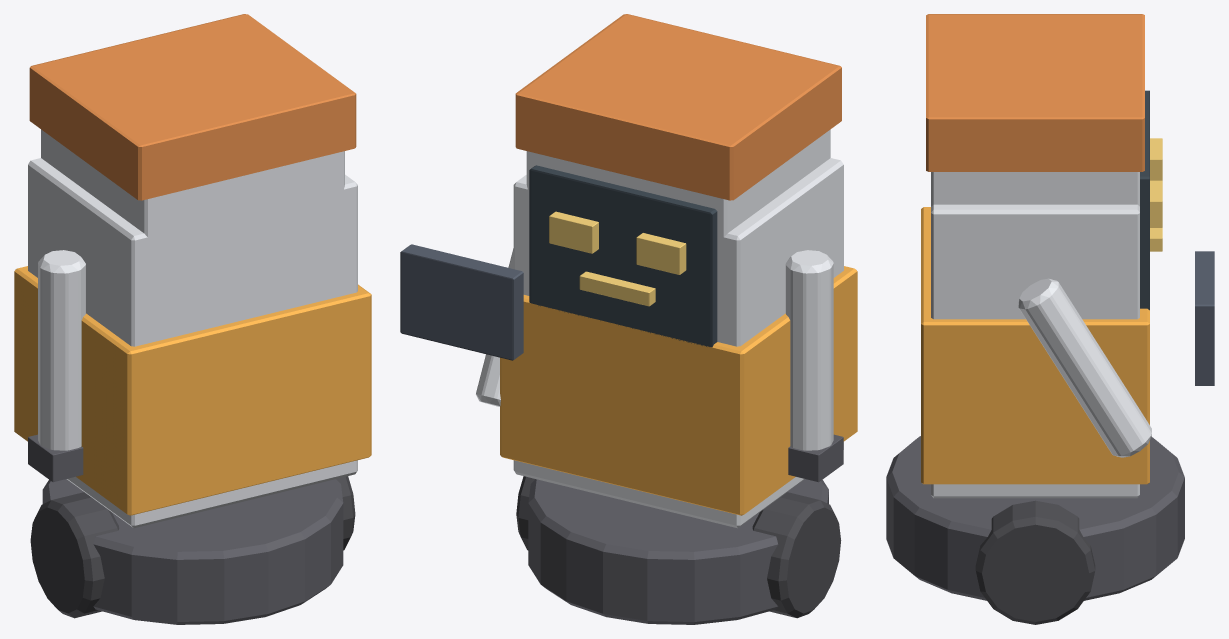
The model's file is SupervisorBot.glb.
3 views of the same model, side by side, from view 1: azimuth 30°, elevation 25°; view 2: azimuth 150°, elevation 25°; view 3: azimuth 270°, elevation 25° (orthographic).
Visible parts, largest first — view 1: Vest, Cap, Torso, Head, Base, ArmL, WheelL, Claw, WheelR; view 2: Vest, Cap, Base, Screen, Torso, Tablet, ArmL, WheelL, Head, Claw, EyeL, EyeR (+3 smaller); view 3: Cap, Vest, Torso, Base, WheelR, ArmR, Head, Tablet, Screen, EyeR, EyeL.
Part boxes in pixels (bbox=[...]): Vest: bbox=[14, 266, 371, 515]; Cap: bbox=[29, 14, 356, 200]; Torso: bbox=[28, 158, 357, 528]; Head: bbox=[41, 129, 344, 336]; Base: bbox=[42, 479, 343, 624]; ArmL: bbox=[38, 250, 85, 450]; WheelL: bbox=[30, 492, 119, 618]; Claw: bbox=[28, 434, 83, 482]; WheelR: bbox=[336, 476, 355, 550]; Vest: bbox=[500, 266, 857, 515]; Cap: bbox=[515, 14, 841, 200]; Base: bbox=[528, 479, 828, 624]; Screen: bbox=[529, 165, 717, 347]; Torso: bbox=[513, 158, 843, 528]; Tablet: bbox=[400, 244, 523, 360]; ArmL: bbox=[785, 250, 833, 450]; WheelL: bbox=[752, 492, 841, 618]; Head: bbox=[526, 129, 830, 336]; Claw: bbox=[788, 434, 843, 482]; EyeL: bbox=[636, 233, 686, 274]; EyeR: bbox=[549, 211, 598, 253]; Cap: bbox=[926, 14, 1144, 171]; Vest: bbox=[921, 207, 1149, 484]; Torso: bbox=[931, 204, 1139, 498]; Base: bbox=[886, 436, 1184, 600]; WheelR: bbox=[975, 500, 1095, 624]; ArmR: bbox=[1018, 278, 1151, 457]; Head: bbox=[931, 172, 1139, 206]; Tablet: bbox=[1195, 251, 1214, 385]; Screen: bbox=[1140, 90, 1149, 310]; EyeR: bbox=[1150, 180, 1162, 227]; EyeL: bbox=[1150, 138, 1162, 180].
Size of the model in its own units: 0.78 by 1.1 by 0.66.
